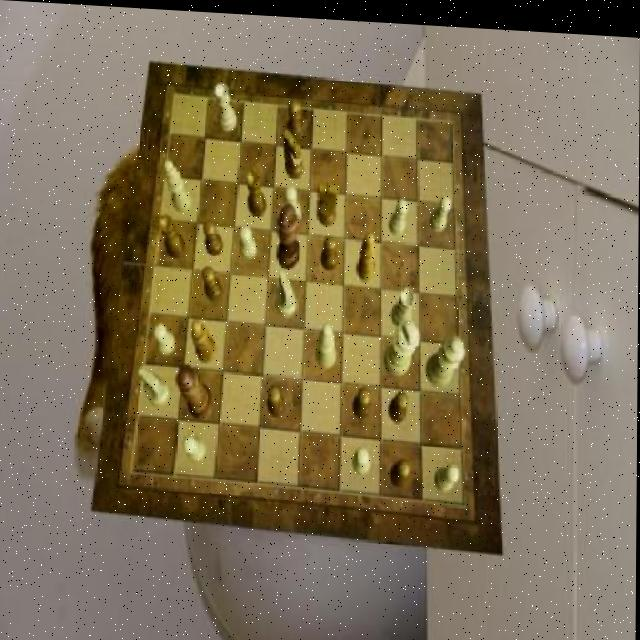bishop: (192, 317, 216, 360), (357, 228, 376, 278)
black-bishop: (277, 199, 300, 266)
black-king: (284, 127, 305, 175), (317, 179, 339, 224)
black-knight: (203, 263, 223, 299), (205, 219, 225, 254), (389, 386, 409, 419), (289, 97, 305, 136), (322, 232, 339, 267), (268, 382, 286, 415), (353, 383, 371, 416), (391, 456, 411, 484)
black-pawn: (176, 361, 214, 417)
black-queen: (159, 212, 187, 257), (246, 167, 268, 214)
black-rook: (163, 158, 193, 211), (318, 320, 338, 366)
white-bishop: (384, 313, 420, 372)
white-king: (138, 365, 171, 407), (277, 267, 298, 314)
white-knight: (153, 321, 176, 355), (431, 190, 452, 227), (436, 457, 461, 488), (390, 193, 409, 232), (183, 433, 208, 460), (285, 183, 302, 221), (240, 222, 258, 257), (353, 443, 370, 471)
white-pawn: (427, 329, 467, 384)
white-queen: (215, 81, 238, 129), (390, 283, 414, 324)
